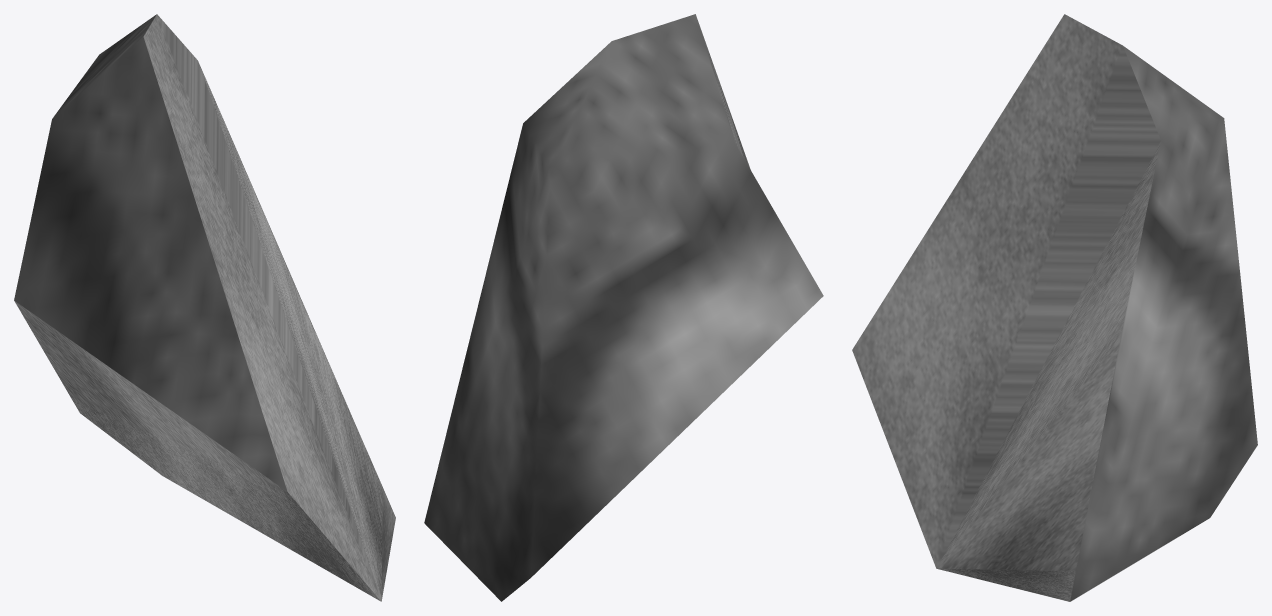
File: tail_cell_023.fbx
3 renders of one model, left to right at view 1: azimuth 30°, elevation 25°; view 2: azimuth 150°, elevation 25°; view 3: azimuth 270°, elevation 25°, orthographic. The views are drawn at different scales.
Visible parts, largest first — view 1: tail_cell.023; view 2: tail_cell.023; view 3: tail_cell.023.
Part boxes in pixels (x1=…): tail_cell.023: x1=14, y1=14, x2=395, y2=601; tail_cell.023: x1=424, y1=14, x2=823, y2=601; tail_cell.023: x1=852, y1=14, x2=1257, y2=601.
Size of the model in its own units: 29.86 by 41.28 by 31.37.
